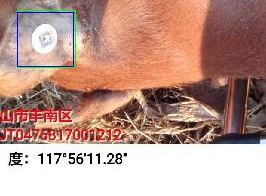text: (17, 10, 75, 67)
